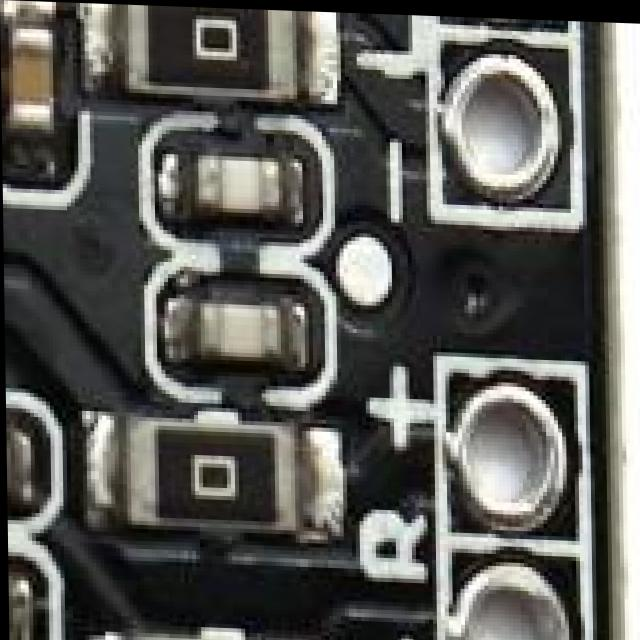capacitor: (8, 12, 62, 164), (187, 281, 282, 366), (198, 154, 283, 228), (5, 416, 18, 496), (7, 576, 11, 632)
resistor: (121, 419, 290, 528), (132, 4, 297, 85), (127, 631, 299, 640)
